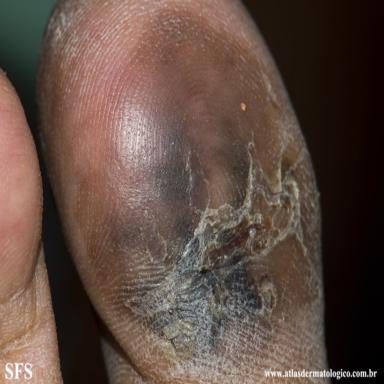Melanoma: (68, 11, 325, 382)
